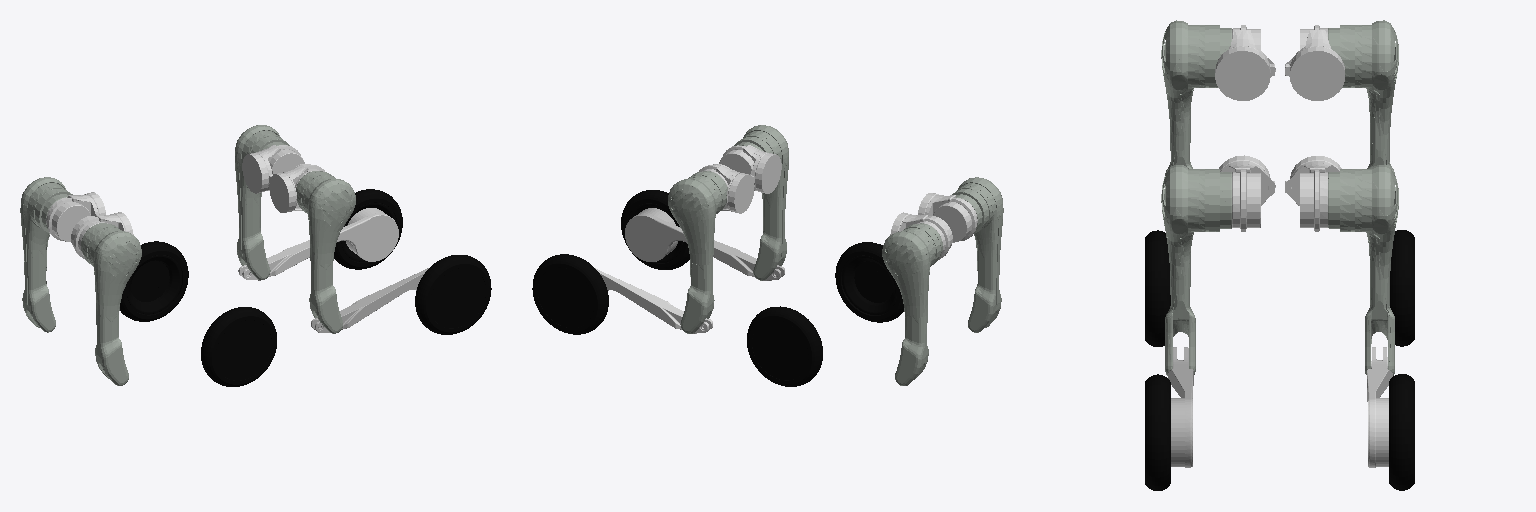
The robot description file, URDF, robot "b2w_description":
<?xml version='1.0' encoding='utf-8'?>
<robot name="b2w_description">
  <link name="base_link">
    <inertial>
      <origin xyz="0.000458 0.005261 0.000665" rpy="0 0 0" />
      <mass value="35.606" />
      <inertia ixx="0.27466" ixy="-0.000622" ixz="0.00315" iyy="1.0618" iyz="-0.00139" izz="1.1825" />
    </inertial>
    <visual>
      <origin xyz="0 0 0" rpy="0 0 0" />
      <geometry>
        <mesh filename="../meshes/base_link.stl" />
      </geometry>
      <material name="白色logo_019-effect"><color rgba="1 1 1 1" /></material><material name="材质_041-effect"><color rgba="0 0 0 1" /></material><material name="磨砂铝合金_033-effect"><color rgba="0.85 0.85 0.85 1" /></material><material name="材质_044-effect"><color rgba="0.07323546 0.07323546 0.07323546 1" /></material><material name="材质_042-effect"><color rgba="0 0 0 1" /></material><material name="材质_040-effect"><color rgba="0 0 0 1" /></material><material name="材质_043-effect"><color rgba="0 0 0 1" /></material></visual>
    <collision>
      <origin xyz="0 0 0" rpy="0 0 0" />
        <geometry>
          <box size="0.5 0.28 0.15" />
        </geometry>
    </collision>
  </link>
  <link name="lidar_link">
    <inertial>
      <origin xyz="0.34218 0 0.17851" rpy="0 0 0" />
      <mass value="4.19E-15" />
      <inertia ixx="1.68E-27" ixy="-3.2E-45" ixz="7.68E-44" iyy="1.68E-27" iyz="-9.26E-47" izz="1.68E-27" />
    </inertial>
    <collision>
      <origin xyz="0 0 -0.02" rpy="0 0 0" />
      <geometry>
        <cylinder length="0.16" radius="0.076" />
        
      </geometry>
    </collision>
  </link>
  <joint name="joint_lidar" type="fixed">
    <origin xyz="0.34218 0 0.17851" rpy="0 0 0" />
    <parent link="base_link" />
    <child link="lidar_link" />
    <axis xyz="0 0 0" />
  </joint>
  <link name="f_dc_link">
    <inertial>
      <origin xyz="3.47E-18 0 5.55E-17" rpy="0 0 0" />
      <mass value="4.19E-15" />
      <inertia ixx="1.68E-27" ixy="-9.81E-45" ixz="-2.54E-44" iyy="1.68E-27" iyz="0" izz="1.68E-27" />
    </inertial>
  </link>
  <joint name="joint_f_dc" type="fixed">
    <origin xyz="0.42161 0.025 0.061851" rpy="-2.3562 0 -1.5708" />
    <parent link="base_link" />
    <child link="f_dc_link" />
    <axis xyz="0 0 0" />
  </joint>
  <link name="r_dc_link">
    <inertial>
      <origin xyz="-7.46E-16 -3.33E-16 -1.11E-15" rpy="0 0 0" />
      <mass value="4.19E-15" />
      <inertia ixx="1.68E-27" ixy="-4.31E-44" ixz="2.48E-45" iyy="1.68E-27" iyz="0" izz="1.68E-27" />
    </inertial>
  </link>
  <joint name="joint_r_dc" type="fixed">
    <origin xyz="-0.42244 -0.025 0.038026" rpy="-2.3562 0 1.5708" />
    <parent link="base_link" />
    <child link="r_dc_link" />
    <axis xyz="0 0 0" />
  </joint>
  <link name="imu_link">
    <inertial>
      <origin xyz="-2.02E-17 1.73E-17 -1.39E-17" rpy="0 0 0" />
      <mass value="4.19E-15" />
      <inertia ixx="1.68E-27" ixy="1.84E-44" ixz="-7.35E-44" iyy="1.68E-27" iyz="-3.67E-44" izz="1.68E-27" />
    </inertial>
  </link>
  <joint name="joint_imu" type="fixed">
    <origin xyz="0 -0.02341 0.04927" rpy="0 0 0" />
    <parent link="base_link" />
    <child link="imu_link" />
    <axis xyz="0 0 0" />
  </joint>
  <link name="head_Link">
    <inertial>
      <origin xyz="0.33989 -0.000168 0.12029" rpy="0 0 0" />
      <mass value="3.6885" />
      <inertia ixx="0.026455" ixy="3.15E-05" ixz="0.00166" iyy="0.029221" iyz="-3.27E-05" izz="0.010918" />
    </inertial>
    <collision>
      <origin xyz="0.41 0 0.005" rpy="0 0 0" />
      <geometry>
        <box size="0.04 0.12 0.14" />
      </geometry>
    </collision>
  </link>
  <joint name="joint_head" type="fixed" dont_collapse="true">
    <origin xyz="0 0 0" rpy="0 0 0" />
    <parent link="base_link" />
    <child link="head_Link" />
    <axis xyz="0 0 0" />
  </joint>
  <link name="tail_link">
    <inertial>
      <origin xyz="-0.37448 0.000488 0.006495" rpy="0 0 0" />
      <mass value="0.795" />
      <inertia ixx="0.0028118" ixy="1.95E-05" ixz="-7.87E-06" iyy="0.0047506" iyz="-1.57E-05" izz="0.0029154" />
    </inertial>
    <collision>
      <origin xyz="-0.405 0 0.005" rpy="0 0 0" />
      <geometry>
        <box size="0.025 0.12 0.14" />
      </geometry>
    </collision>
  </link>
  <joint name="joint_tail" type="fixed" dont_collapse="true">
    <origin xyz="0 0 0" rpy="0 0 0" />
    <parent link="base_link" />
    <child link="tail_link" />
    <axis xyz="0 0 0" />
  </joint>
  <link name="FL_hip">
    <inertial>
      <origin xyz="-0.003841 -0.009068 0" rpy="0 0 0" />
      <mass value="2.673" />
      <inertia ixx="0.0033188" ixy="7.16E-05" ixz="-3.77E-07" iyy="0.0048743" iyz="4E-09" izz="0.0037087" />
    </inertial>
    <visual>
      <origin xyz="0 0 0" rpy="0 0 0" />
      <geometry>
        <mesh filename="../meshes/FL_hip.stl" />
      </geometry>
      <material name="磨砂铝合金_008-effect"><color rgba="0.85 0.85 0.85 1" /></material></visual>
    <collision>
      <origin xyz="0 0.12 0" rpy="1.5707963267948966 0 0" />
      <geometry>
        <cylinder length="0.05" radius="0.07" />
      </geometry>
    </collision>
  </link>
  <joint name="FL_hip_joint" type="revolute">
    <origin xyz="0.3285 0.072 0" rpy="0 0 0" />
    <parent link="base_link" />
    <child link="FL_hip" />
    <axis xyz="1 0 0" />
    <limit lower="-0.87" upper="0.87" effort="200" velocity="23" />
  </joint>
  <link name="FL_thigh">
    <inertial>
      <origin xyz="-0.006279 -0.032049 -0.057835" rpy="0 0 0" />
      <mass value="4.536" />
      <inertia ixx="0.062299" ixy="0.00087781" ixz="-0.0036475" iyy="0.061399" iyz="0.0083537" izz="0.0081997" />
    </inertial>
    <visual>
      <origin xyz="0 0 0" rpy="0 0 0" />
      <geometry>
        <mesh filename="../meshes/FL_thigh.stl" />
      </geometry>
      <material name="磨砂铝合金_008-effect"><color rgba="0.85 0.85 0.85 1" /></material><material name="灰色硅胶_009-effect"><color rgba="0.6500053 0.68 0.6500053 1" /></material></visual>
    <collision>
      <origin xyz="-0.025 0 -0.16" rpy="0 1.57 0" />
      <geometry>
        <box size="0.32 0.0445 0.054" />
      </geometry>
    </collision>
  </link>
  <joint name="FL_thigh_joint" type="revolute">
    <origin xyz="0 0.11973 0" rpy="0 0 0" />
    <parent link="FL_hip" />
    <child link="FL_thigh" />
    <axis xyz="0 1 0" />
    <limit lower="-0.94" upper="4.69" effort="200" velocity="23" />
  </joint>
  <link name="FL_calf">
    <inertial>
      <origin xyz="0.005278 0.017301 -0.29778" rpy="0 0 0" />
      <mass value="2.2906" />
      <inertia ixx="0.029283" ixy="0.000221" ixz="-0.001064" iyy="0.030868" iyz="0.002093" izz="0.00326" />
    </inertial>
    <visual>
      <origin xyz="0 0 0" rpy="0 0 0" />
      <geometry>
        <mesh filename="../meshes/FL_calf.stl" />
      </geometry>
      <material name="磨砂铝合金_008-effect"><color rgba="0.85 0.85 0.85 1" /></material></visual>
    <collision>
      <origin xyz="0 0 0" rpy="0 0 0" />
      <geometry>
        <mesh filename="../meshes/FL_calf.stl" />
      </geometry>
    </collision>
  </link>
  <joint name="FL_calf_joint" type="revolute">
    <origin xyz="0 -8.8203E-05 -0.35" rpy="0 0 0" />
    <parent link="FL_thigh" />
    <child link="FL_calf" />
    <axis xyz="0 1 0" />
    <limit lower="-2.82" upper="-0.43" effort="320" velocity="14" />
  </joint>
  <link name="FL_foot">
    <inertial>
      <origin xyz="-0.000991 0.051053 -0.00113" rpy="0 0 0" />
      <mass value="1.083" />
      <inertia ixx="0.004121" ixy="6E-06" ixz="-4.8E-05" iyy="0.007776" iyz="7E-06" izz="0.004108" />
    </inertial>
    <visual>
      <origin xyz="0 0 0" rpy="0 0 0" />
      <geometry>
        <mesh filename="../meshes/Left_wheel.stl" />
      </geometry>
      <material name="silicone-effect"><color rgba="0.073 0.073 0.073 1" /></material></visual>
    <collision>
      <origin xyz="0 0 0" rpy="0 0 0" />
      <geometry>
        <mesh filename="../meshes/Left_wheel.stl" />
      </geometry>
    </collision>
  </link>
  <joint name="FL_foot_joint" type="revolute">
    <origin xyz="0 0 -0.35" rpy="0 0 0" />
    <parent link="FL_calf" />
    <child link="FL_foot" />
    <axis xyz="0 1 0" />
    <limit lower="-999999" upper="999999" effort="20" velocity="50" />
  </joint>
  <link name="FR_hip">
    <inertial>
      <origin xyz="-0.003841 0.009068 0" rpy="0 0 0" />
      <mass value="2.673" />
      <inertia ixx="0.003318772" ixy="-7.16E-05" ixz="-3.77E-07" iyy="0.004874327" iyz="-4E-09" izz="0.003708731" />
    </inertial>
    <visual>
      <origin xyz="0 0 0" rpy="0 0 0" />
      <geometry>
        <mesh filename="../meshes/FR_hip.stl" />
      </geometry>
      <material name="磨砂铝合金_008-effect"><color rgba="0.85 0.85 0.85 1" /></material></visual>
    <collision>
      <origin xyz="0 -0.12 0" rpy="1.5707963267948966 0 0" />
      <geometry>
        <cylinder length="0.05" radius="0.07" />
      </geometry>
    </collision>
  </link>
  <joint name="FR_hip_joint" type="revolute">
    <origin xyz="0.3285 -0.072 0" rpy="0 0 0" />
    <parent link="base_link" />
    <child link="FR_hip" />
    <axis xyz="1 0 0" />
    <limit lower="-0.87" upper="0.87" effort="200" velocity="23" />
  </joint>
  <link name="FR_thigh">
    <inertial>
      <origin xyz="-0.006279 0.032049 -0.057835" rpy="0 0 0" />
      <mass value="4.536" />
      <inertia ixx="0.06229908" ixy="-0.000877808" ixz="-0.003647464" iyy="0.06139927" iyz="-0.008353671" izz="0.008199745" />
    </inertial>
    <visual>
      <origin xyz="0 0 0" rpy="0 0 0" />
      <geometry>
        <mesh filename="../meshes/FR_thigh.stl" />
      </geometry>
      <material name="磨砂铝合金_008-effect"><color rgba="0.85 0.85 0.85 1" /></material><material name="灰色硅胶_009-effect"><color rgba="0.6500053 0.68 0.6500053 1" /></material></visual>
    <collision>
      <origin rpy="0 1.57 0" xyz="-0.03 0 -0.2" />
      <geometry>
        <box size="0.25 0.028 0.04" />
      </geometry>
    </collision>
  </link>
  <joint name="FR_thigh_joint" type="revolute">
    <origin xyz="0 -0.11973 0" rpy="0 0 0" />
    <parent link="FR_hip" />
    <child link="FR_thigh" />
    <axis xyz="0 1 0" />
    <limit lower="-0.94" upper="4.69" effort="200" velocity="23" />
  </joint>
  <link name="FR_calf">
    <inertial>
      <origin xyz="0.005278 -0.017301 -0.297775" rpy="0 0 0" />
      <mass value="2.290557" />
      <inertia ixx="0.029283" ixy="-0.000221" ixz="-0.001064" iyy="0.030868" iyz="-0.002093" izz="0.00326" />
    </inertial>
    <visual>
      <origin xyz="0 0 0" rpy="0 0 0" />
      <geometry>
        <mesh filename="../meshes/FR_calf.stl" />
      </geometry>
      <material name="磨砂铝合金_031-effect"><color rgba="0.7487598 0.7487598 0.7487598 1" /></material></visual>
    <collision>
      <origin xyz="0 0 0" rpy="0 0 0" />
      <geometry>
        <mesh filename="../meshes/FR_calf.stl" />
      </geometry>
    </collision>
  </link>
  <joint name="FR_calf_joint" type="revolute">
    <origin xyz="0 8.8205E-05 -0.35" rpy="0 0 0" />
    <parent link="FR_thigh" />
    <child link="FR_calf" />
    <axis xyz="0 1 0" />
    <limit lower="-2.82" upper="-0.43" effort="320" velocity="14" />
  </joint>
  <link name="FR_foot">
    <inertial>
      <origin xyz="-0.000991 -0.051053 -0.00113" rpy="0 0 0" />
      <mass value="1.083" />
      <inertia ixx="0.004121" ixy="-6E-06" ixz="-4.8E-05" iyy="0.007776" iyz="-7E-06" izz="0.004108" />
    </inertial>
    <visual>
      <origin xyz="0.0 -0.0 0" rpy="0 -1.5708 0" />
      <geometry>
        <mesh filename="../meshes/Right_wheel.stl" />

        <!-- <cylinder radius="0.112" length="0.05"/>  -->
 
      </geometry>
      <material name="silicone-effect"><color rgba="0.073 0.073 0.073 1" /></material></visual>
    <collision>
      <origin xyz="0.0 -0.0 0" rpy="0 -1.5708 0" />
      <geometry>
        <mesh filename="../meshes/Right_wheel.stl" />

        <!-- <cylinder radius="0.112" length="0.05"/>  -->
 
      </geometry>
    </collision>
  </link>
  <joint name="FR_foot_joint" type="revolute">
    <origin xyz="0 -0.001 -0.35" rpy="0 0 0" />
    <parent link="FR_calf" />
    <child link="FR_foot" />
    <axis xyz="0 1 0" />
    <limit lower="-999999" upper="999999" effort="20" velocity="50" />
  </joint>
  <link name="RL_hip">
    <inertial>
      <origin xyz="0.003841 -0.009068 0" rpy="0 0 0" />
      <mass value="2.673" />
      <inertia ixx="0.0033188" ixy="-7.16E-05" ixz="3.77E-07" iyy="0.0048743" iyz="4E-09" izz="0.0037087" />
    </inertial>
    <visual>
      <origin xyz="0 0 0" rpy="0 0 0" />
      <geometry>
        <mesh filename="../meshes/RL_hip.stl" />
      </geometry>
      <material name="磨砂铝合金_008-effect"><color rgba="0.85 0.85 0.85 1" /></material></visual>
    <collision>
      <origin xyz="0 0.12 0" rpy="1.5707963267948966 0 0" />
      <geometry>
        <cylinder length="0.05" radius="0.07" />
      </geometry>
    </collision>
  </link>
  <joint name="RL_hip_joint" type="revolute">
    <origin xyz="-0.3285 0.072 0" rpy="0 0 0" />
    <parent link="base_link" />
    <child link="RL_hip" />
    <axis xyz="1 0 0" />
    <limit lower="-0.87" upper="0.87" effort="200" velocity="23" />
  </joint>
  <link name="RL_thigh">
    <inertial>
      <origin xyz="-0.006279 -0.032049 -0.057835" rpy="0 0 0" />
      <mass value="4.536" />
      <inertia ixx="0.06229908" ixy="0.000877808" ixz="-0.003647464" iyy="0.06139927" iyz="0.008353671" izz="0.008199745" />
    </inertial>
    <visual>
      <origin xyz="0 0 0" rpy="0 0 0" />
      <geometry>
        <mesh filename="../meshes/RL_thigh.stl" />
      </geometry>
      <material name="磨砂铝合金_008-effect"><color rgba="0.85 0.85 0.85 1" /></material><material name="灰色硅胶_009-effect"><color rgba="0.6500053 0.68 0.6500053 1" /></material></visual>
    <collision>
      <origin rpy="0 1.57 0" xyz="-0.03 0 -0.2" />
      <geometry>
        <box size="0.25 0.028 0.04" />
      </geometry>
    </collision>
  </link>
  <joint name="RL_thigh_joint" type="revolute">
    <origin xyz="0 0.11973 0" rpy="0 0 0" />
    <parent link="RL_hip" />
    <child link="RL_thigh" />
    <axis xyz="0 1 0" />
    <limit lower="-0.94" upper="4.69" effort="200" velocity="23" />
  </joint>
  <link name="RL_calf">
    <inertial>
      <origin xyz="0.005278 0.017301 -0.29778" rpy="0 0 0" />
      <mass value="2.2906" />
      <inertia ixx="0.029283" ixy="0.000221" ixz="-0.001064" iyy="0.030868" iyz="0.002093" izz="0.00326" />
    </inertial>
    <visual>
      <origin xyz="0 0 0" rpy="0 0 0" />
      <geometry>
        <mesh filename="../meshes/RL_calf.stl" />
      </geometry>
      <material name="磨砂铝合金_008-effect"><color rgba="0.85 0.85 0.85 1" /></material></visual>
    <collision>
      <origin xyz="0 0 0" rpy="0 0 0" />
      <geometry>
        <mesh filename="../meshes/RL_calf.stl" />
      </geometry>
    </collision>
  </link>
  <joint name="RL_calf_joint" type="revolute">
    <origin xyz="0 -8.8205E-05 -0.35" rpy="0 0 0" />
    <parent link="RL_thigh" />
    <child link="RL_calf" />
    <axis xyz="0 1 0" />
    <limit lower="-2.82" upper="-0.43" effort="320" velocity="14" />
  </joint>
  <link name="RL_foot">
    <inertial>
      <origin xyz="-0.000991 0.051053 -0.00113" rpy="0 0 0" />
      <mass value="1.083" />
      <inertia ixx="0.004121" ixy="6E-06" ixz="-4.8E-05" iyy="0.007776" iyz="7E-06" izz="0.004108" />
    </inertial>
    <visual>
      <origin xyz="0 0 0" rpy="0 0 0" />
      <geometry>
        <mesh filename="../meshes/Left_wheel.stl" />
      </geometry>
      <material name="silicone-effect"><color rgba="0.073 0.073 0.073 1" /></material></visual>
    <collision>
      <origin xyz="0 0 0" rpy="0 0 0" />
      <geometry>
        <mesh filename="../meshes/Left_wheel.stl" />
      </geometry>
    </collision>
  </link>
  <joint name="RL_foot_joint" type="revolute">
    <origin xyz="0 0 -0.35" rpy="0 0 0" />
    <parent link="RL_calf" />
    <child link="RL_foot" />
    <axis xyz="0 1 0" />
    <limit lower="-999999" upper="999999" effort="20" velocity="50" />
  </joint>
  <link name="RR_hip">
    <inertial>
      <origin xyz="0.003841 0.009068 0" rpy="0 0 0" />
      <mass value="2.673" />
      <inertia ixx="0.0033188" ixy="7.16E-05" ixz="3.77E-07" iyy="0.0048743" iyz="-4E-09" izz="0.0037087" />
    </inertial>
    <visual>
      <origin xyz="0 0 0" rpy="0 0 0" />
      <geometry>
        <mesh filename="../meshes/RR_hip.stl" />
      </geometry>
      <material name="磨砂铝合金_008-effect"><color rgba="0.85 0.85 0.85 1" /></material></visual>
    <collision>
      <origin xyz="0 -0.12 0" rpy="1.5707963267948966 0 0" />
      <geometry>
        <cylinder length="0.05" radius="0.07" />
      </geometry>
    </collision>
  </link>
  <joint name="RR_hip_joint" type="revolute">
    <origin xyz="-0.3285 -0.072 0" rpy="0 0 0" />
    <parent link="base_link" />
    <child link="RR_hip" />
    <axis xyz="1 0 0" />
    <limit lower="-0.87" upper="0.87" effort="200" velocity="23" />
  </joint>
  <link name="RR_thigh">
    <inertial>
      <origin xyz="-0.006279 0.032049 -0.057835" rpy="0 0 0" />
      <mass value="4.536" />
      <inertia ixx="0.062299" ixy="-0.00087781" ixz="-0.0036475" iyy="0.061399" iyz="-0.0083537" izz="0.0081997" />
    </inertial>
    <visual>
      <origin xyz="0 0 0" rpy="0 0 0" />
      <geometry>
        <mesh filename="../meshes/RR_thigh.stl" />
      </geometry>
      <material name="磨砂铝合金_008-effect"><color rgba="0.85 0.85 0.85 1" /></material><material name="灰色硅胶_009-effect"><color rgba="0.6500053 0.68 0.6500053 1" /></material></visual>
    <collision>
      <origin rpy="0 1.57 0" xyz="-0.03 0 -0.2" />
      <geometry>
        <box size="0.25 0.028 0.04" />
      </geometry>
    </collision>
  </link>
  <joint name="RR_thigh_joint" type="revolute">
    <origin xyz="0 -0.11973 0" rpy="0 0 0" />
    <parent link="RR_hip" />
    <child link="RR_thigh" />
    <axis xyz="0 1 0" />
    <limit lower="-0.94" upper="4.69" effort="200" velocity="23" />
  </joint>
  <link name="RR_calf">
    <inertial>
      <origin xyz="0.005278 -0.017301 -0.29778" rpy="0 0 0" />
      <mass value="2.2906" />
      <inertia ixx="0.029283" ixy="-0.000221" ixz="-0.001064" iyy="0.030868" iyz="-0.002093" izz="0.00326" />
    </inertial>
    <visual>
      <origin xyz="0 0 0" rpy="0 0 0" />
      <geometry>
        <mesh filename="../meshes/RR_calf.stl" />
      </geometry>
      <material name="磨砂铝合金_031-effect"><color rgba="0.7487598 0.7487598 0.7487598 1" /></material></visual>
    <collision>
      <origin xyz="0 0 0" rpy="0 0 0" />
      <geometry>
        <mesh filename="../meshes/RR_calf.stl" />
      </geometry>
    </collision>
  </link>
  <joint name="RR_calf_joint" type="revolute">
    <origin xyz="0 8.8205E-05 -0.35" rpy="0 0 0" />
    <parent link="RR_thigh" />
    <child link="RR_calf" />
    <axis xyz="0 1 0" />
    <limit lower="-2.82" upper="-0.43" effort="320" velocity="14" />
  </joint>
  <link name="RR_foot">
    <inertial>
      <origin xyz="-0.000991 -0.051053 -0.00113" rpy="0 0 0" />
      <mass value="1.083" />
      <inertia ixx="0.004121" ixy="-6E-06" ixz="-4.8E-05" iyy="0.007776" iyz="-7E-06" izz="0.004108" />
    </inertial>
    <visual>
      <origin xyz="0.0 -0 0" rpy="0 -1.5708 0" />
      <geometry>
        <mesh filename="../meshes/Right_wheel.stl" />
        
        <!-- <cylinder radius="0.112" length="0.05"/> 根据轮子半径和厚度修改 -->
 
      </geometry>
      <material name="silicone-effect"><color rgba="0.073 0.073 0.073 1" /></material></visual>
    <collision>
      <origin xyz="0.0 -0 0" rpy="0 -1.5708 0" />
      <geometry>
        <mesh filename="../meshes/Right_wheel.stl" />

        <!-- <cylinder radius="0.112" length="0.05"/>  -->
 
      </geometry>
    </collision>
  </link>
  <joint name="RR_foot_joint" type="revolute">
    <origin xyz="0 -0.001 -0.35" rpy="0 0 0" />
    <parent link="RR_calf" />
    <child link="RR_foot" />
    <axis xyz="0 1 0" />
    <limit lower="-999999" upper="999999" effort="20" velocity="50" />
  </joint>
  <link name="f_oc_link">
    <inertial>
      <origin xyz="-3.39E-15 1.46E-16 -6.11E-16" rpy="0 0 0" />
      <mass value="4.19E-15" />
      <inertia ixx="1.68E-27" ixy="-3.89E-44" ixz="5.04E-44" iyy="1.68E-27" iyz="2.81E-45" izz="1.68E-27" />
    </inertial>
  </link>
  <joint name="f_oc_link" type="fixed">
    <origin xyz="0.3993 0 -0.01576" rpy="-1.5708 0 -1.5708" />
    <parent link="base_link" />
    <child link="f_oc_link" />
    <axis xyz="0 0 0" />
  </joint>
  <link name="logo_link">
    <inertial>
      <origin xyz="0 -2.3E-23 0" rpy="0 0 0" />
      <mass value="4.19E-15" />
      <inertia ixx="1.68E-27" ixy="0" ixz="0" iyy="1.68E-27" iyz="0" izz="1.68E-27" />
    </inertial>
  </link>
  <joint name="joint_logo" type="fixed">
    <origin xyz="0 0 0" rpy="0 0 0" />
    <parent link="base_link" />
    <child link="logo_link" />
    <axis xyz="0 0 0" />
  </joint>
  <link name="r_oc_ink">
    <inertial>
      <origin xyz="-0.39143 1.52E-07 -0.011961" rpy="0 0 0" />
      <mass value="4.19E-12" />
      <inertia ixx="1.68E-22" ixy="9.03E-39" ixz="0" iyy="1.68E-22" iyz="-1.2E-38" izz="1.68E-22" />
    </inertial>
  </link>
  <joint name="joint_r_oc" type="fixed">
    <origin xyz="-0.39143 0 -0.026131" rpy="-1.5708 0 1.5708" />
    <parent link="base_link" />
    <child link="r_oc_ink" />
    <axis xyz="0 0 0" />
  </joint>
</robot>

--- Render facts (derived) ---
The picture shows the robot from 3 angles, left to right: view 1: azimuth 30°, elevation 25°; view 2: azimuth 150°, elevation 25°; view 3: azimuth 270°, elevation 25°; orthographic projection.
Robot: b2w_description — 26 links, 25 joints (16 revolute, 9 fixed); root link base_link; default pose: all joints at 0 but 4 set to mid-range because 0 is outside their limits (FL_calf_joint = -1.62, FR_calf_joint = -1.62, RL_calf_joint = -1.62, RR_calf_joint = -1.62).
Visible links, largest first — view 1: RR_thigh, FR_thigh, FR_foot, RR_foot, RL_thigh, RL_foot, FL_thigh, FL_calf, FL_hip, RL_hip, FL_foot, FR_calf (+2 smaller); view 2: RL_thigh, FL_thigh, FL_foot, RL_foot, RR_thigh, RR_foot, FR_thigh, FR_calf, FR_hip, RR_hip, FR_foot, FL_calf (+2 smaller); view 3: FR_thigh, FL_thigh, RL_thigh, RR_thigh, RR_hip, RL_hip, FL_foot, FR_foot, RR_foot, FR_hip, RL_foot, FL_hip (+2 smaller).
Boxes of the visible links, left/top/right/bottom form: RR_thigh: left=81, top=223, right=141, bottom=385; FR_thigh: left=296, top=171, right=355, bottom=333; FR_foot: left=415, top=255, right=491, bottom=334; RR_foot: left=201, top=307, right=276, bottom=386; RL_thigh: left=20, top=177, right=72, bottom=332; RL_foot: left=120, top=241, right=188, bottom=321; FL_thigh: left=235, top=125, right=289, bottom=279; FL_calf: left=238, top=208, right=398, bottom=280; FL_hip: left=242, top=145, right=304, bottom=193; RL_hip: left=46, top=192, right=105, bottom=241; FL_foot: left=334, top=189, right=402, bottom=269; FR_calf: left=311, top=268, right=428, bottom=332; RL_thigh: left=882, top=223, right=942, bottom=385; FL_thigh: left=668, top=171, right=727, bottom=333; FL_foot: left=532, top=254, right=608, bottom=334; RL_foot: left=747, top=306, right=822, bottom=386; RR_thigh: left=952, top=177, right=1003, bottom=332; RR_foot: left=835, top=242, right=903, bottom=322; FR_thigh: left=734, top=125, right=788, bottom=280; FR_calf: left=625, top=208, right=784, bottom=280; FR_hip: left=719, top=145, right=781, bottom=193; RR_hip: left=918, top=193, right=977, bottom=242; FR_foot: left=621, top=190, right=689, bottom=269; FL_calf: left=595, top=268, right=712, bottom=333; FR_thigh: left=1161, top=165, right=1231, bottom=375; FL_thigh: left=1328, top=165, right=1398, bottom=375; RL_thigh: left=1328, top=20, right=1398, bottom=173; RR_thigh: left=1161, top=20, right=1231, bottom=185; RR_hip: left=1215, top=25, right=1275, bottom=100; RL_hip: left=1285, top=25, right=1344, bottom=100; FL_foot: left=1389, top=374, right=1414, bottom=490; FR_foot: left=1145, top=374, right=1170, bottom=490; RR_foot: left=1145, top=230, right=1170, bottom=346; FR_hip: left=1219, top=155, right=1275, bottom=231; RL_foot: left=1390, top=230, right=1414, bottom=346; FL_hip: left=1285, top=156, right=1341, bottom=231.
Size in the robot's own frame: 1.19 by 0.5207 by 0.5138 metres.
14 mesh visuals loaded from 15 distinct referenced files (12 binary STL); not drawn: 3 (reference not matched to a file when rendering).
